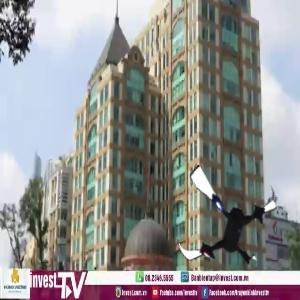drone: (166, 160, 284, 278)
